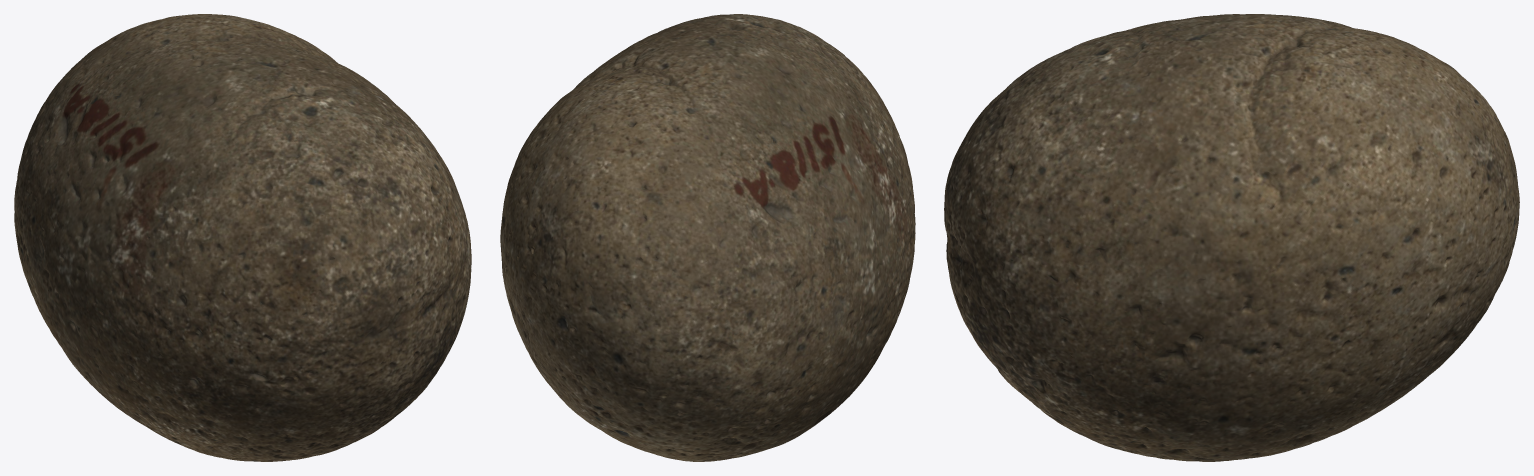
The picture shows the model from 3 angles, left to right: view 1: azimuth 30°, elevation 25°; view 2: azimuth 150°, elevation 25°; view 3: azimuth 270°, elevation 25°; orthographic projection. The views are drawn at different scales.
Parts seen in each view (by area): view 1: Node; view 2: Node; view 3: Node.
Boxes of the visible parts, x1,y1,x2,y2 form: Node: [14, 14, 471, 461]; Node: [500, 14, 915, 461]; Node: [944, 14, 1519, 461].
Bounding box in the file's own units: 50.4 × 54.21 × 67.9.
1 material, 1 textured.
